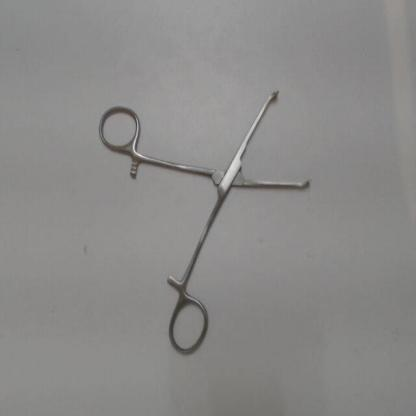Allis Tissue Forceps: (89, 74, 323, 362)
